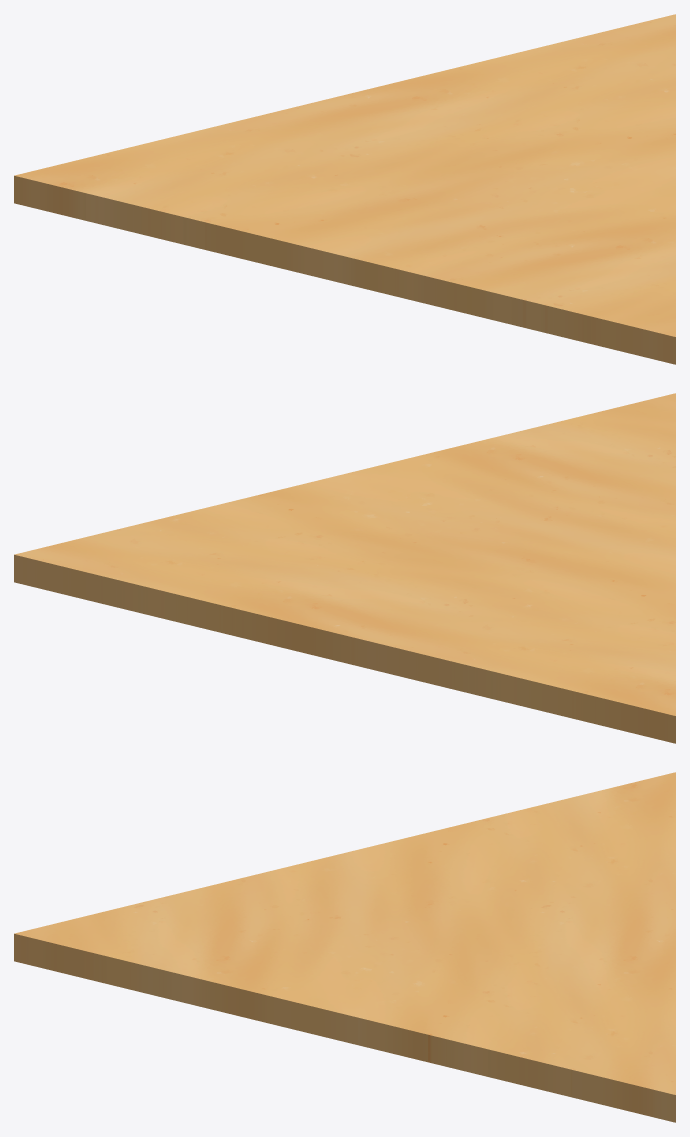
File: triangle_shape.fbx
3 views of the same model, one above another, from view 1: azimuth 30°, elevation 25°; view 2: azimuth 150°, elevation 25°; view 3: azimuth 270°, elevation 25° (orthographic).
Parts seen in each view (by area): view 1: Cylinder.001; view 2: Cylinder.001; view 3: Cylinder.001.
Boxes of the visible parts, x1,y1,x2,y2 form: Cylinder.001: (14,14,675,364); Cylinder.001: (14,393,675,743); Cylinder.001: (14,772,675,1122).
Size of the model in its own units: 2328 by 92.98 by 2016.
1 material, 1 textured.
